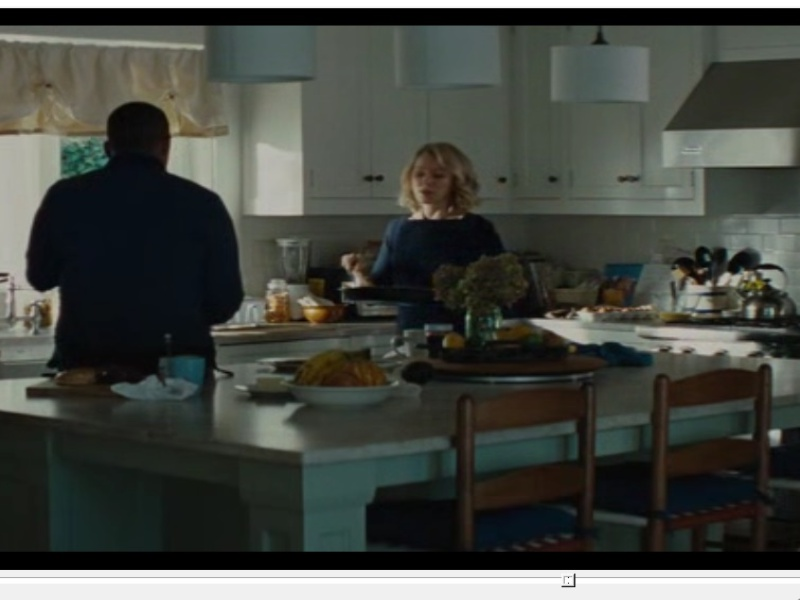TsisyArotava: (402, 141, 471, 220)
